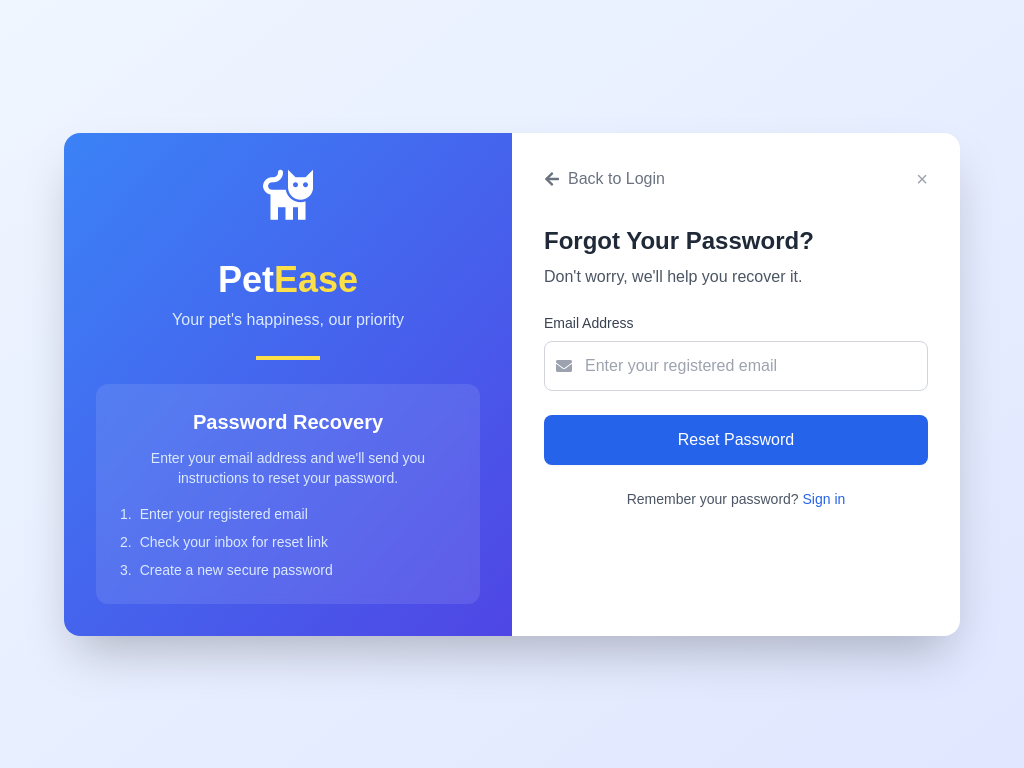
Test: Forgot Password Page › should handle API errors
Type "valid@example.com" into the field labelled "Email Address" at (736, 366), box [544,341,928,391]
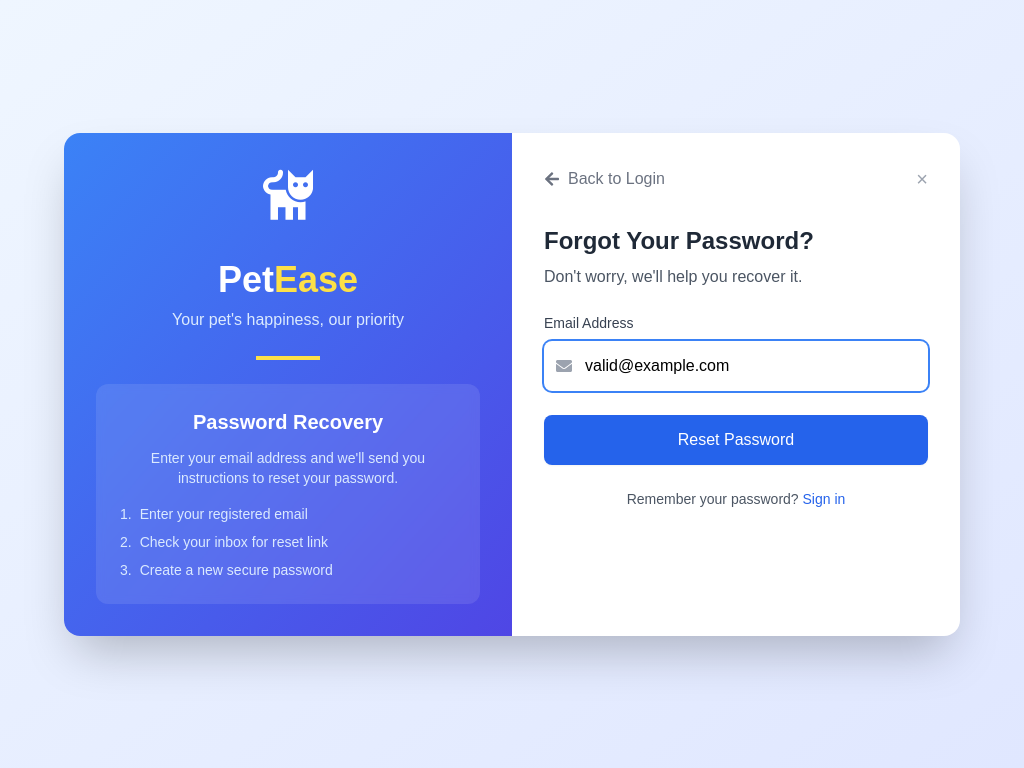
Click the submit button at (736, 440), box [544,415,928,465]
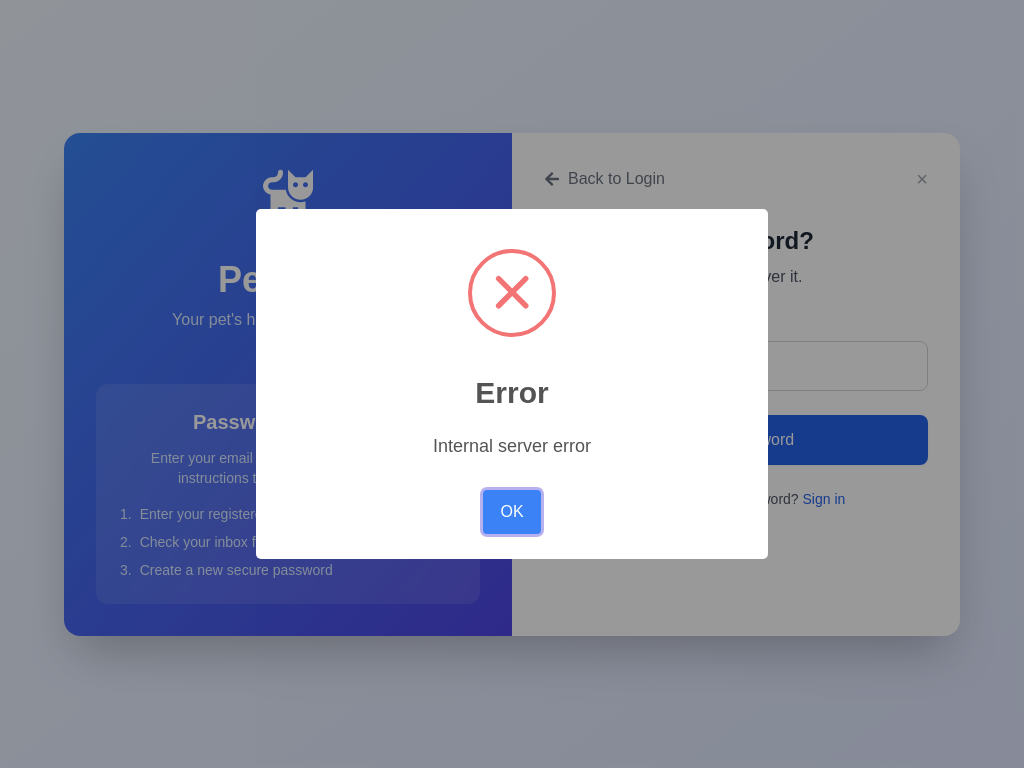
Now the dialog with class "swal2-popup" is shown, box [256,209,768,560]
Now the heading with class "swal2-title" reads "Error", box [475,376,548,409]
Now the text with class "swal2-html-container" reads "Internal server error", box [433,436,591,456]
